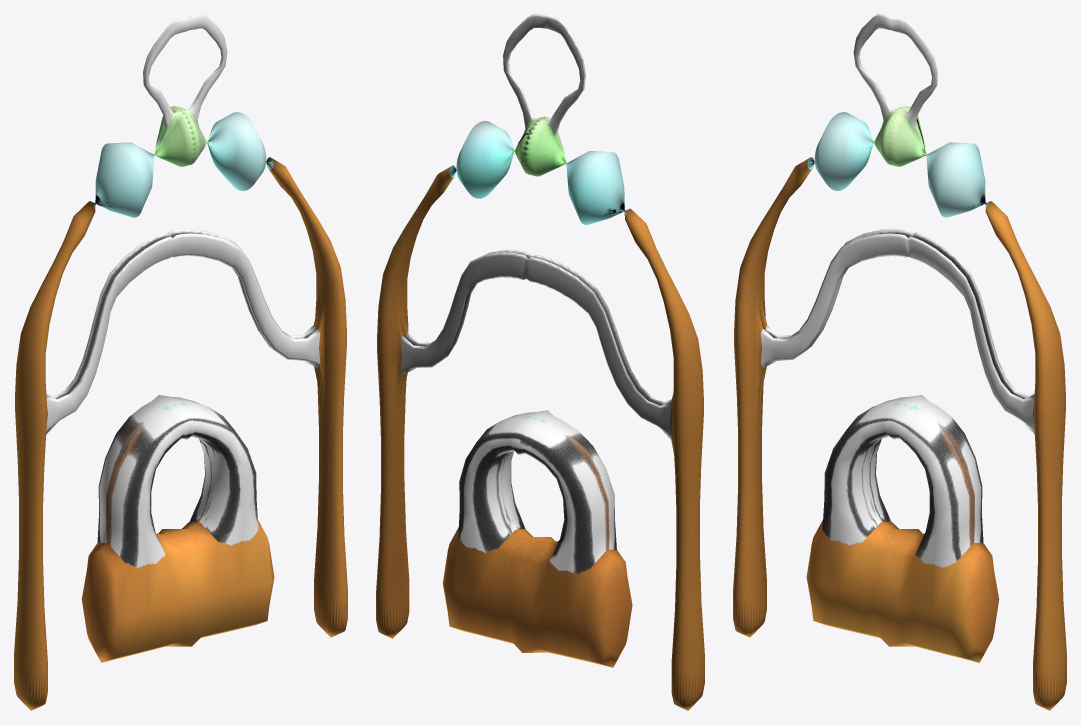
File: model_lock_gate.obj
The picture shows the model from 3 angles, left to right: view 1: azimuth 30°, elevation 25°; view 2: azimuth 150°, elevation 25°; view 3: azimuth 330°, elevation 25°; orthographic projection.
Parts seen in each view (by area): view 1: Cylinder; view 2: Cylinder; view 3: Cylinder.
Part boxes in pixels (x1,y1,x2,y2): Cylinder: [14, 14, 347, 710]; Cylinder: [376, 14, 704, 710]; Cylinder: [733, 14, 1066, 710].
Size of the model in its own units: 1.99 by 3.9 by 0.4781.
Materials: 6 (6 with a texture image).
